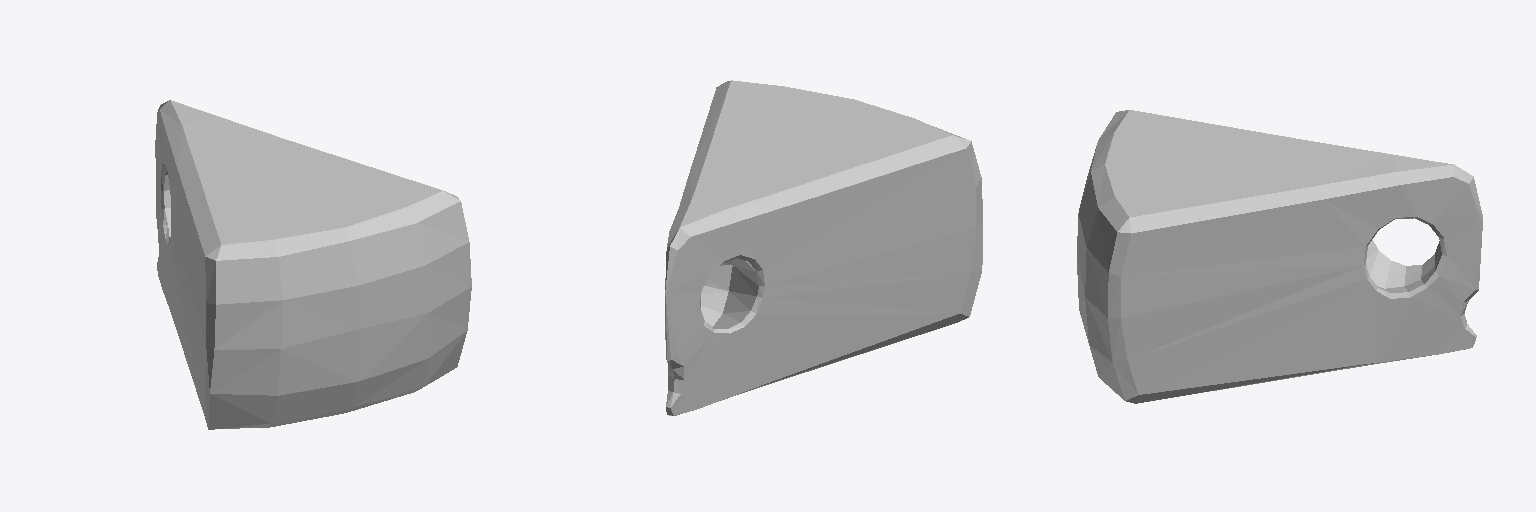
File: cheese.obj
3 renders of one model, left to right at view 1: azimuth 30°, elevation 25°; view 2: azimuth 150°, elevation 25°; view 3: azimuth 270°, elevation 25°, orthographic.
Parts seen in each view (by area): view 1: cheese_piece_low.001_cheese_piece_low.002; view 2: cheese_piece_low.001_cheese_piece_low.002; view 3: cheese_piece_low.001_cheese_piece_low.002.
Part boxes in pixels (left/top/right/bottom): cheese_piece_low.001_cheese_piece_low.002: left=155, top=100, right=471, bottom=429; cheese_piece_low.001_cheese_piece_low.002: left=665, top=80, right=982, bottom=415; cheese_piece_low.001_cheese_piece_low.002: left=1077, top=110, right=1482, bottom=403.
Size of the model in its own units: 0.7332 by 0.5017 by 0.9914.